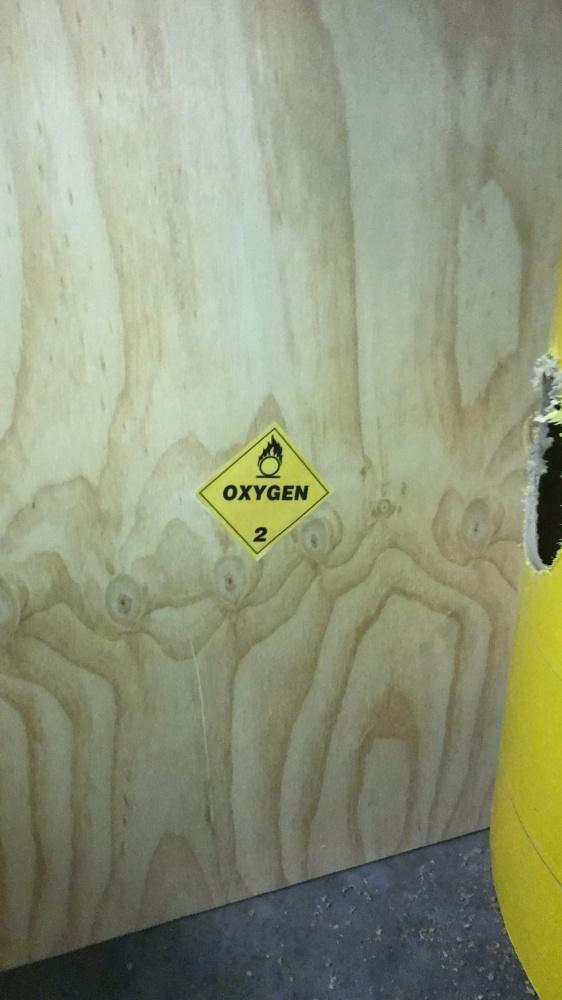oxidizer: (199, 428, 328, 553)
